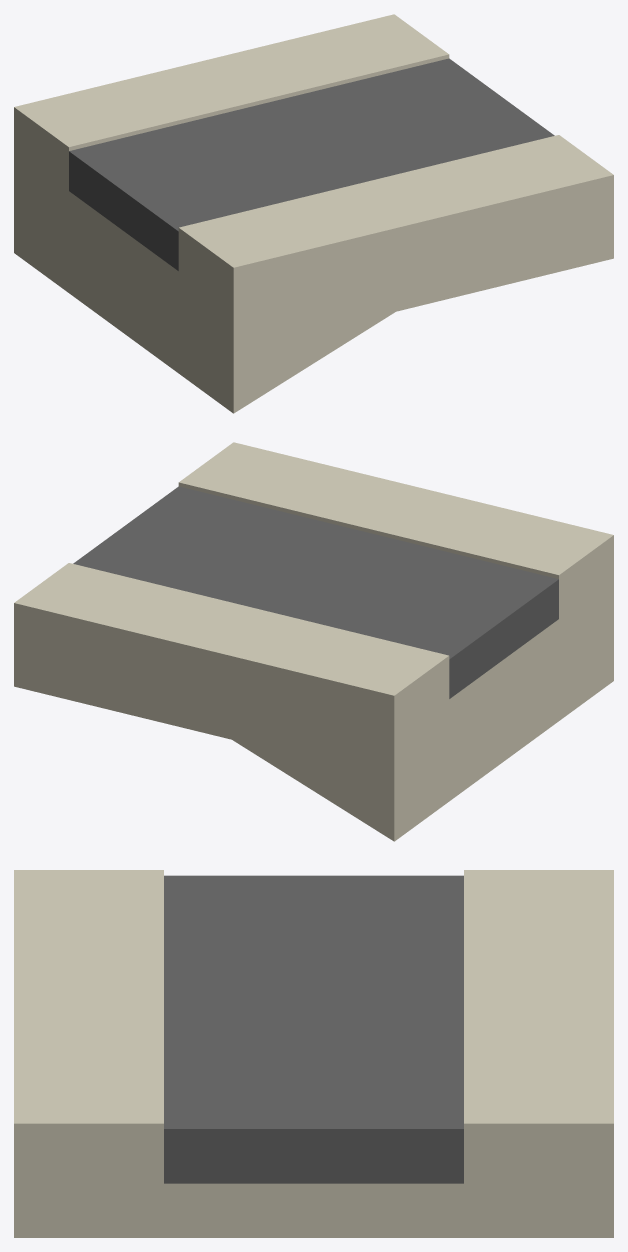
The model's file is tile030.fbx.
3 renders of one model, top to bottom at view 1: azimuth 30°, elevation 25°; view 2: azimuth 150°, elevation 25°; view 3: azimuth 270°, elevation 25°, orthographic. The views are drawn at different scales.
Parts seen in each view (by area): view 1: tile030; view 2: tile030; view 3: tile030.
Part boxes in pixels (box(x1,y1,x2,y2)): tile030: box(14, 14, 613, 413); tile030: box(14, 442, 613, 841); tile030: box(14, 870, 613, 1237).
Bounding box in the file's own units: 10 × 3.67 × 10.
